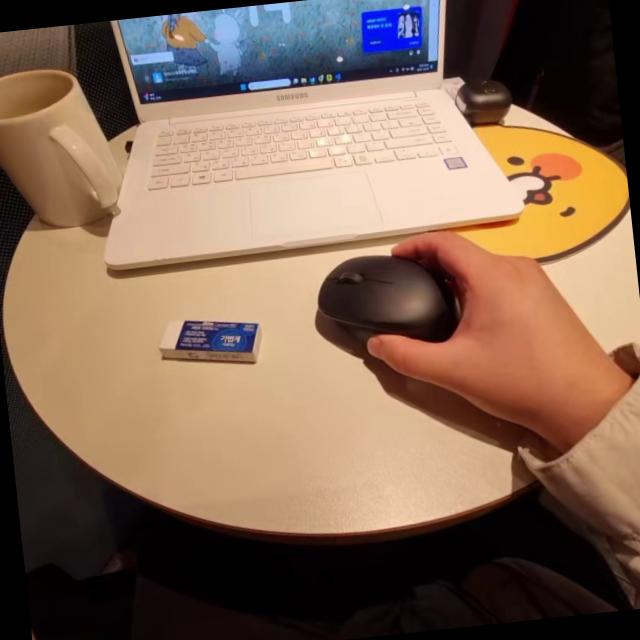eraser: (144, 304, 286, 382)
grab_mouse: (311, 206, 640, 455)
hand: (406, 217, 598, 434)
mouse: (292, 237, 462, 346)
